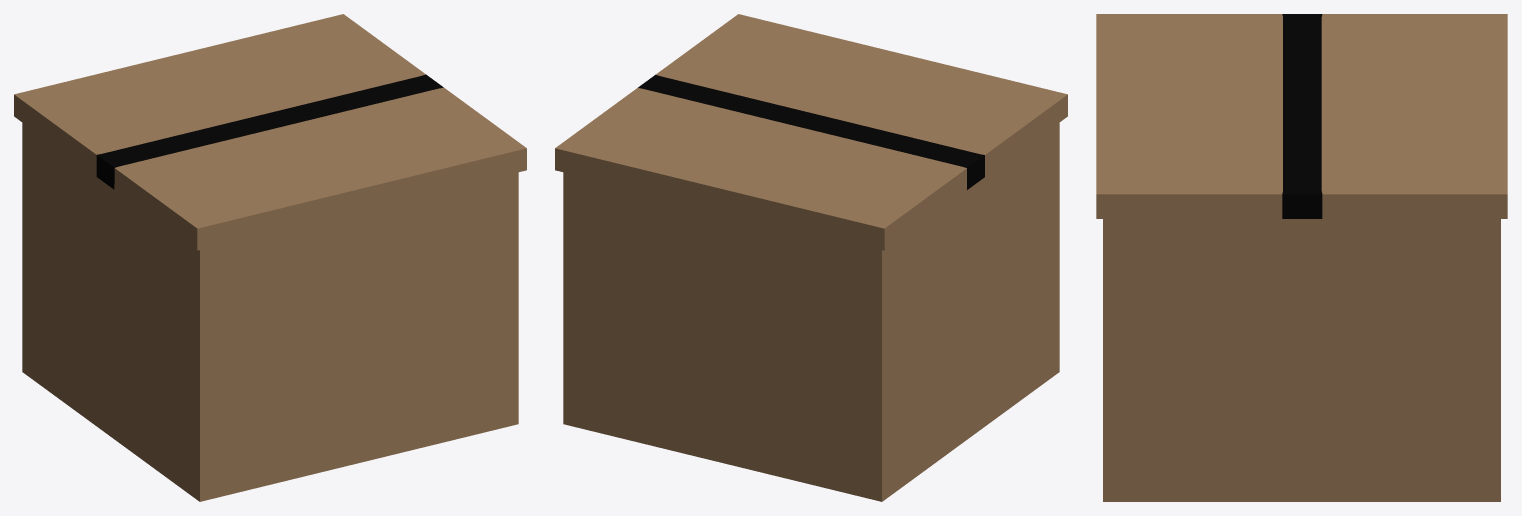
The model's file is BoxV2.fbx.
3 views of the same model, side by side, from view 1: azimuth 30°, elevation 25°; view 2: azimuth 150°, elevation 25°; view 3: azimuth 270°, elevation 25° (orthographic). The views are drawn at different scales.
Parts seen in each view (by area): view 1: Cube; view 2: Cube; view 3: Cube.
Part boxes in pixels (x1,y1,x2,y2): Cube: [14, 14, 526, 501]; Cube: [555, 14, 1067, 501]; Cube: [1096, 14, 1507, 501].
Bounding box in the file's own units: 133 × 107 × 128.
